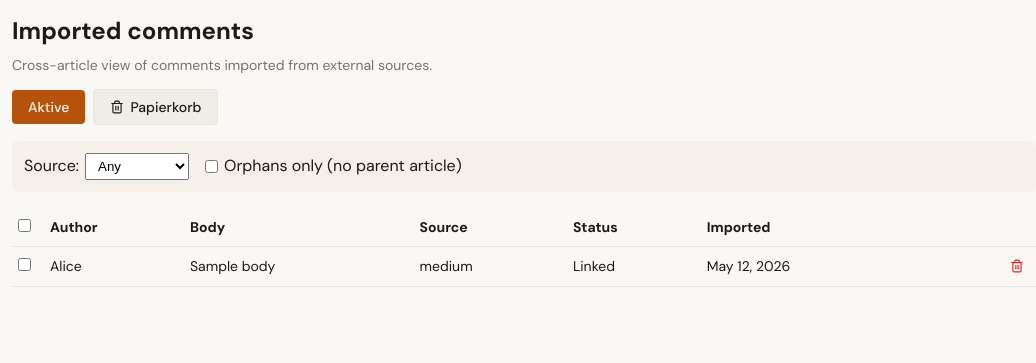
Test case: CommentsAdminSection preview modal + row truncation › clicking the row's checkbox does NOT open the modal (stopPropagation)
What coordinates should you click on to do the following:
click the checkbox with test id "comments-admin-select-row-Y"
I would click on:
 (24, 265)
Its box is [18,258,31,271].
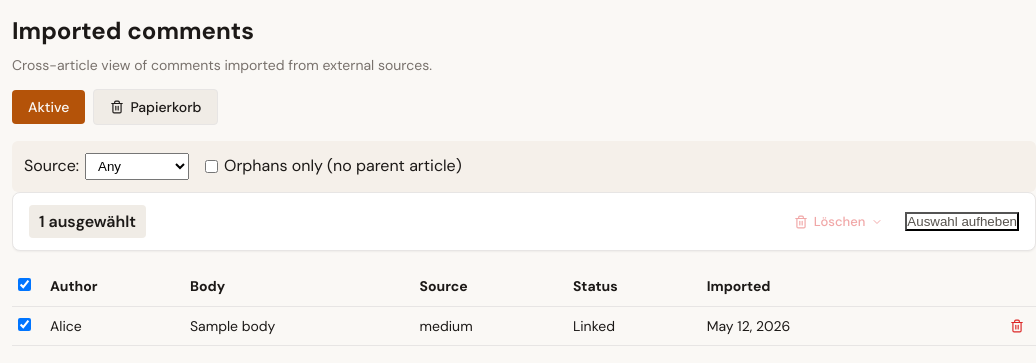
Now the element with test id "comment-bulk-action-bar" is shown, box [12,192,1035,251]
